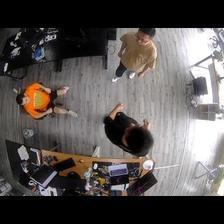normal: (112, 28, 158, 85), (105, 102, 153, 156), (18, 83, 77, 121)
